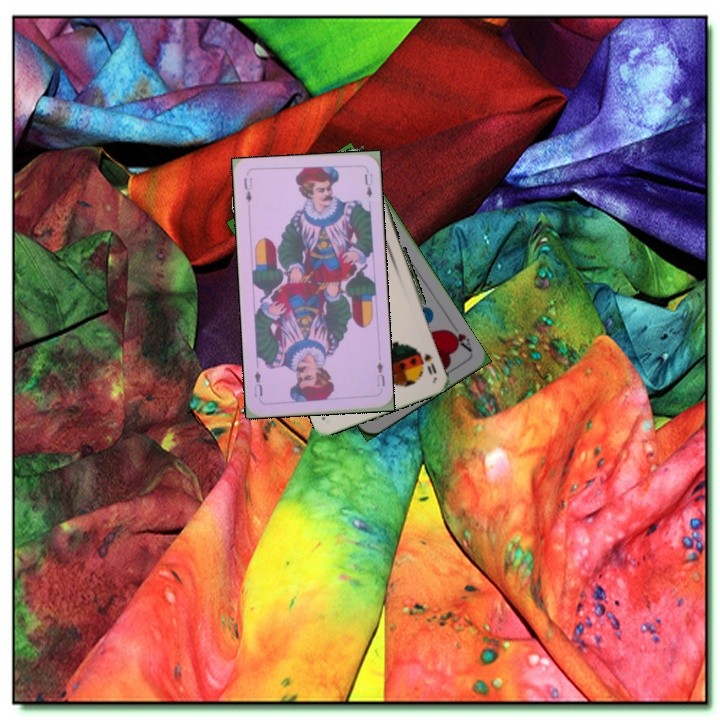EU: (372, 354, 387, 389), (240, 174, 255, 205)
HA: (442, 325, 475, 355)
SO: (420, 348, 439, 377)
